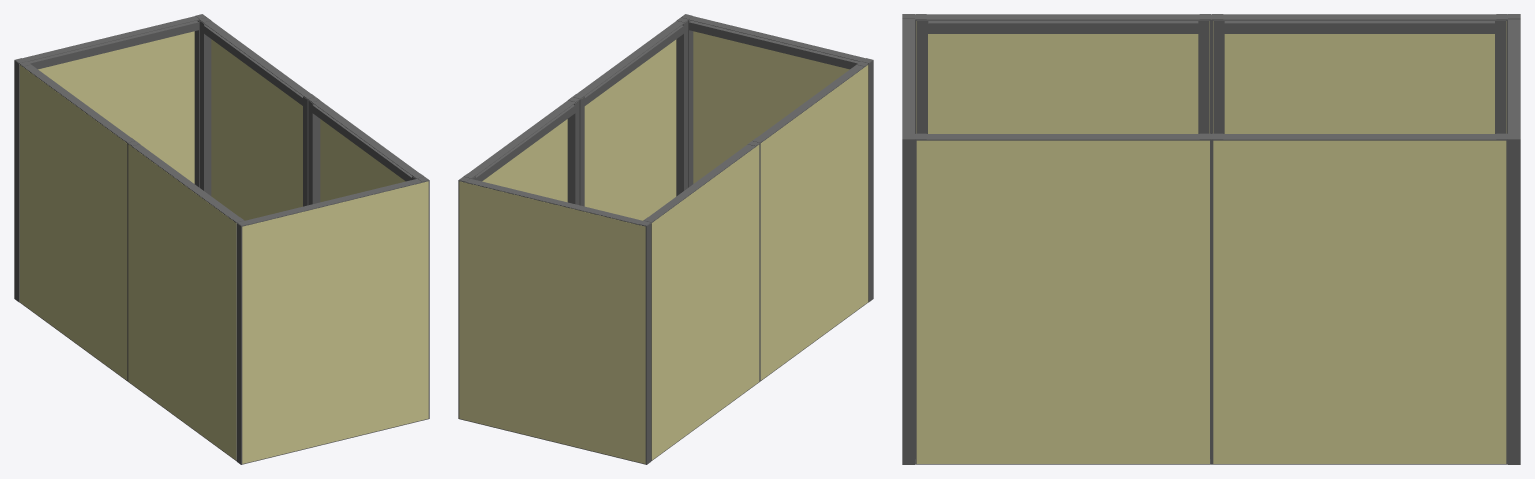
The model's file is Header Double Panels.glb.
The picture shows the model from 3 angles, left to right: view 1: azimuth 30°, elevation 25°; view 2: azimuth 150°, elevation 25°; view 3: azimuth 270°, elevation 25°; orthographic projection. The views are drawn at different scales.
Parts seen in each view (by area): view 1: Standard 38.026, Standard 38.022, Standard 38.020, Standard 38.023, Standard 38.019, Standard 38.021; view 2: Standard 38.019, Standard 38.020, Standard 38.022, Standard 38.021, Standard 38.026, Standard 38.023; view 3: Standard 38.023, Standard 38.021, Standard 38.020, Standard 38.022, Standard 38.019, Standard 38.026.
Boxes of the visible parts, x1,y1,x2,y2 form: Standard 38.026: (236, 176, 429, 464); Standard 38.022: (19, 61, 135, 381); Standard 38.020: (128, 141, 244, 460); Standard 38.023: (199, 17, 315, 220); Standard 38.019: (14, 14, 206, 301); Standard 38.021: (308, 97, 423, 205); Standard 38.019: (458, 176, 651, 464); Standard 38.020: (752, 61, 868, 381); Standard 38.022: (643, 141, 759, 460); Standard 38.021: (572, 17, 688, 220); Standard 38.026: (681, 14, 873, 301); Standard 38.023: (463, 97, 579, 205); Standard 38.023: (1211, 133, 1507, 464); Standard 38.021: (915, 133, 1211, 464); Standard 38.020: (915, 14, 1211, 133); Standard 38.022: (1211, 14, 1507, 133); Standard 38.019: (1508, 14, 1520, 464); Standard 38.026: (902, 14, 914, 464).
Size of the model in its own units: 0.969 by 1.17 by 2.02.
